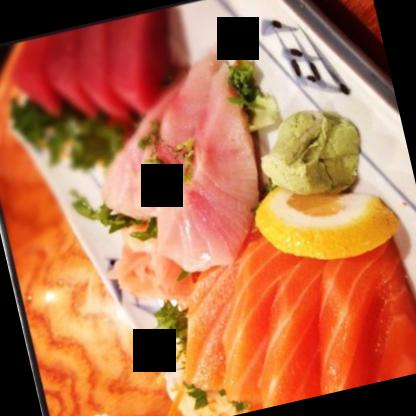salmon: (230, 231, 367, 407), (280, 220, 415, 397), (194, 231, 314, 407), (158, 255, 274, 394)
tuna: (7, 20, 121, 134), (96, 6, 183, 116)
